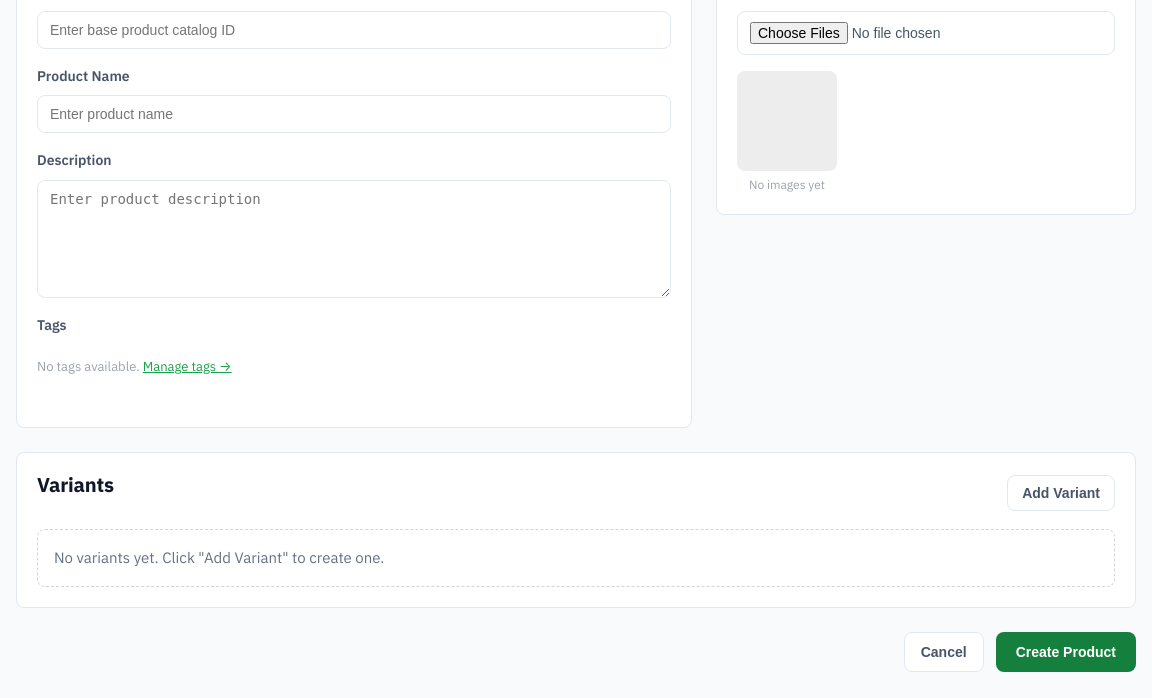
Test: AdminProductDetailPage › form validation — create mode › clears only the corrected field error on input, leaving others
(page scrolled)
Click the button "Create Product".
click(1066, 652)  # box [996,632,1136,672]
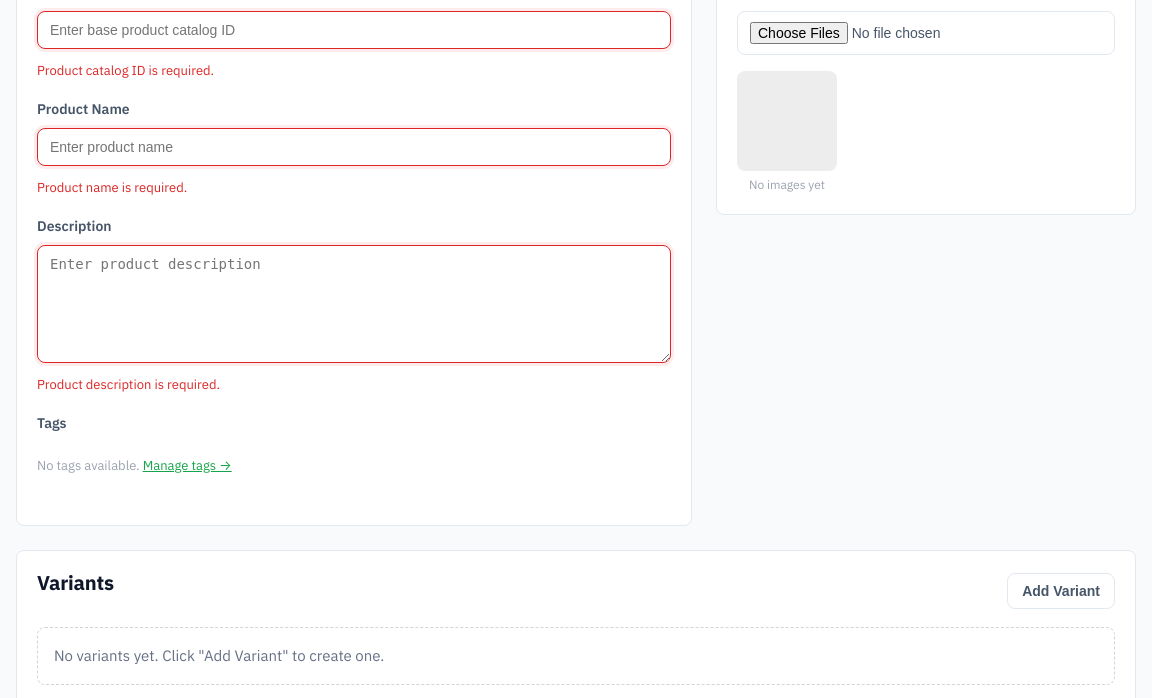
Result: the text "Product catalog ID is required." is shown at [37,62,214,79]
Result: the text "Product name is required." is shown at [37,179,187,196]
Type "CAT-001" into the field with placeholder "Enter base product catalog ID".
click(354, 30); type("CAT-001")  # box [37,11,671,49]
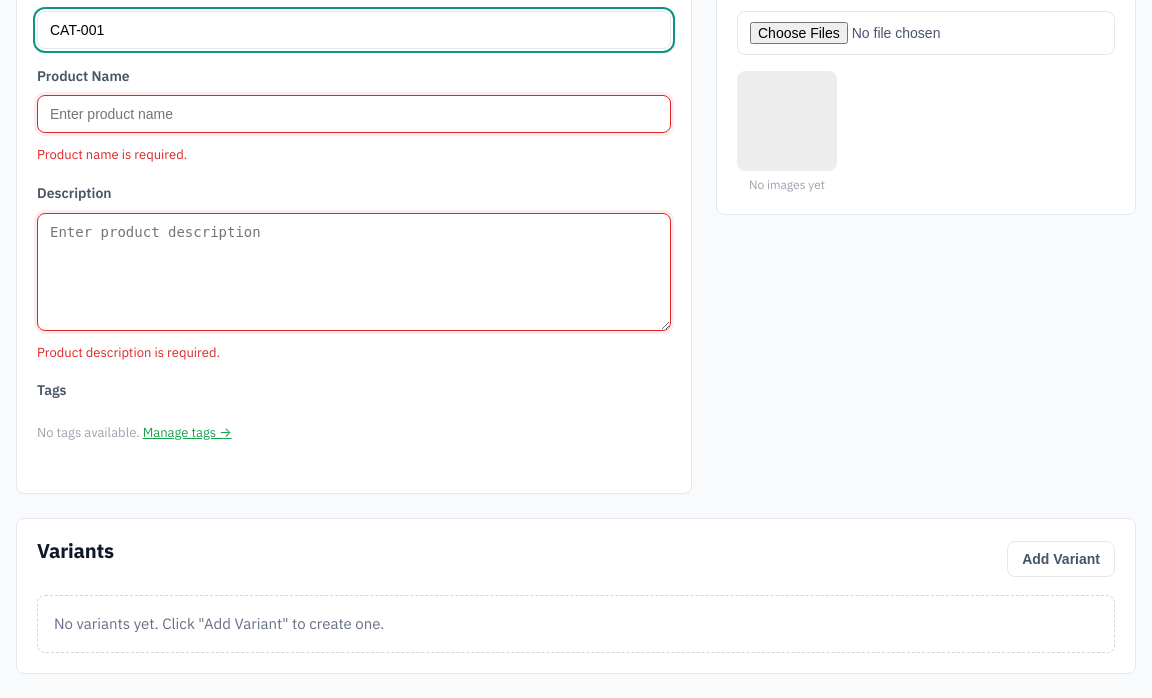
Result: the text "Product name is required." is shown at [37,146,187,163]
Result: the text "Product catalog ID is required." is gone
